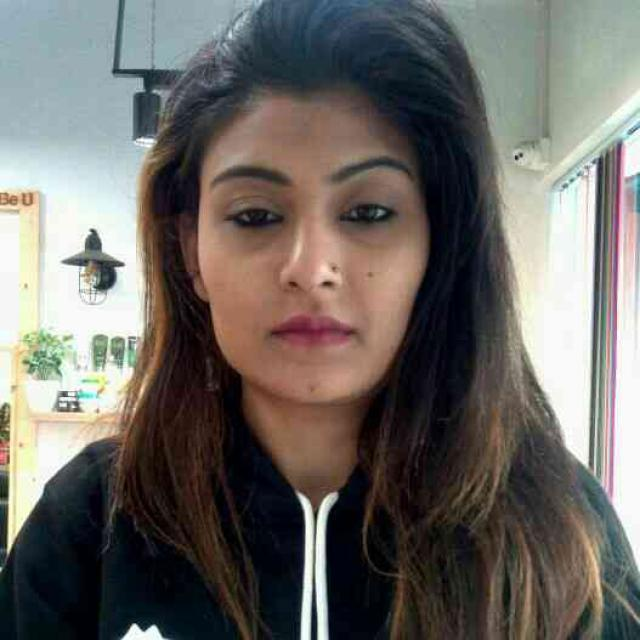puffy_eyes: (338, 219, 407, 248), (227, 225, 286, 257)
